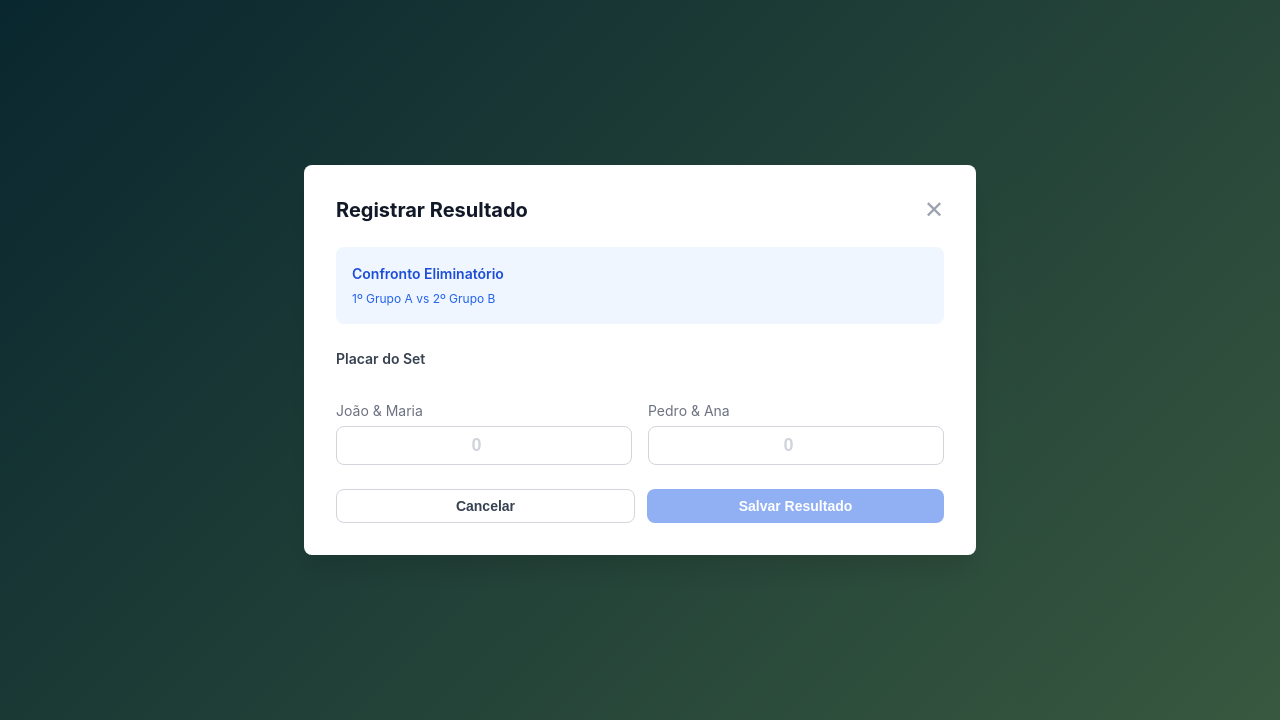
Test: ModalRegistrarResultadoEliminatorio › submissão do formulário › deve mostrar erro ao falhar registro
Type "6" into the number field with placeholder "0" below "João & Maria". click: (484, 446)
box: [336,426,632,466]
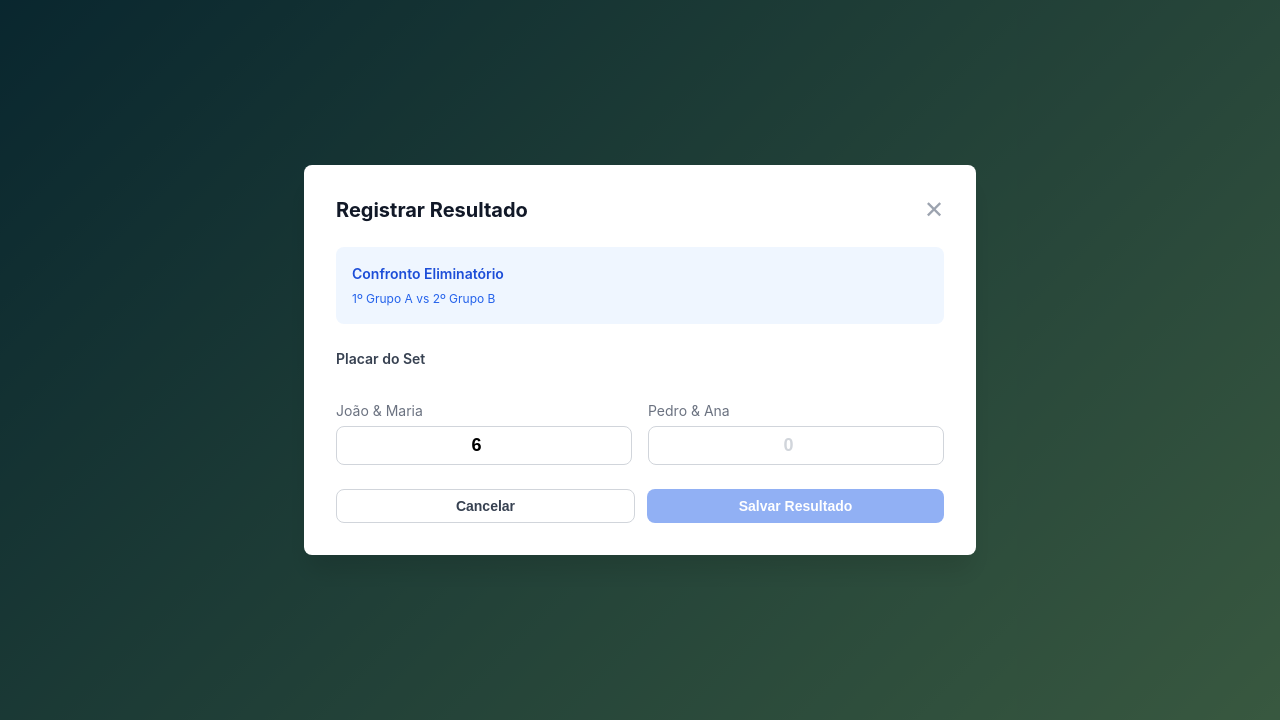
Type "4" into the number field with placeholder "0". click: (796, 446)
box: [648,426,944,466]
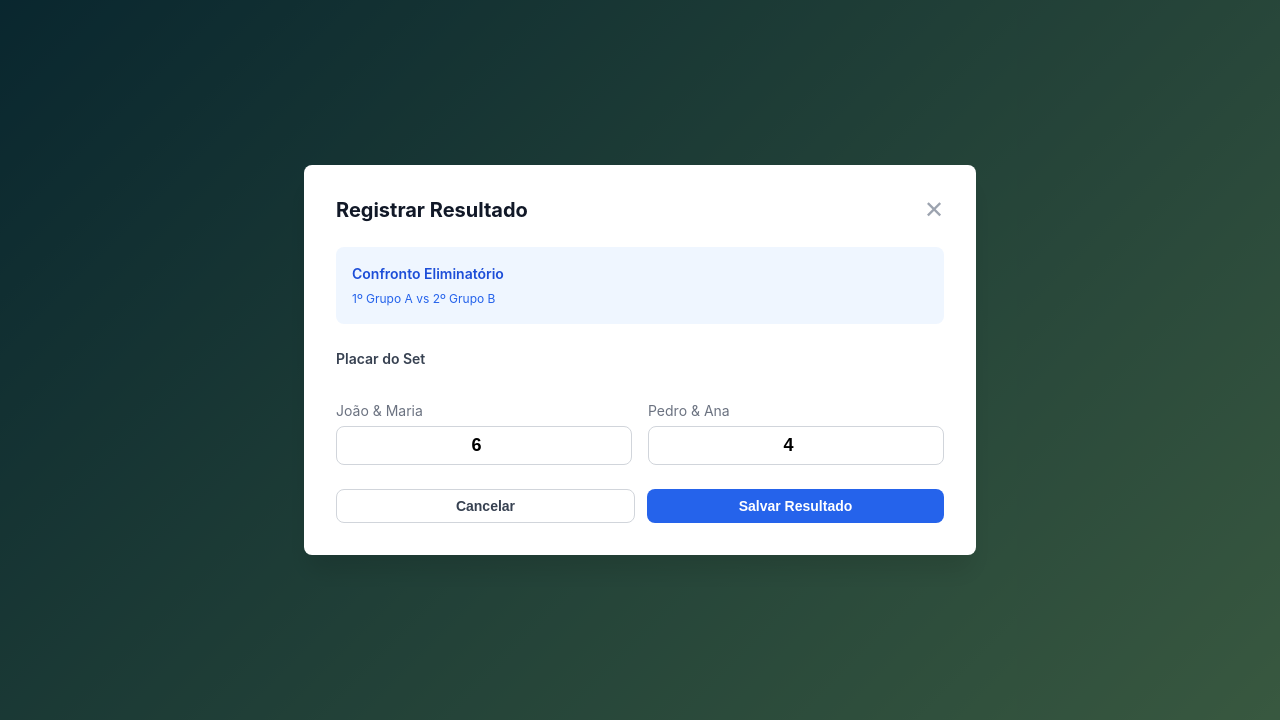
Click the button "Salvar Resultado". click: (796, 506)
box: [647,490,944,524]
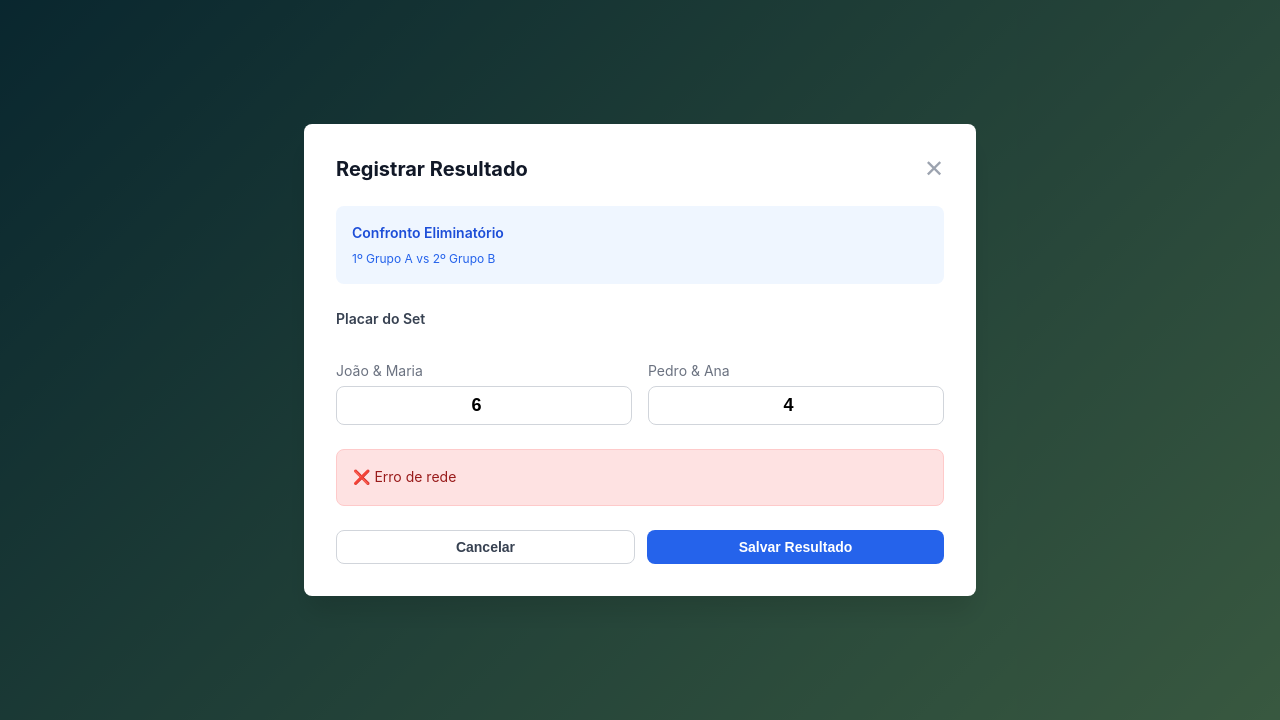
Check: the text "❌ Erro de rede" is shown, box [336,449,944,506]
